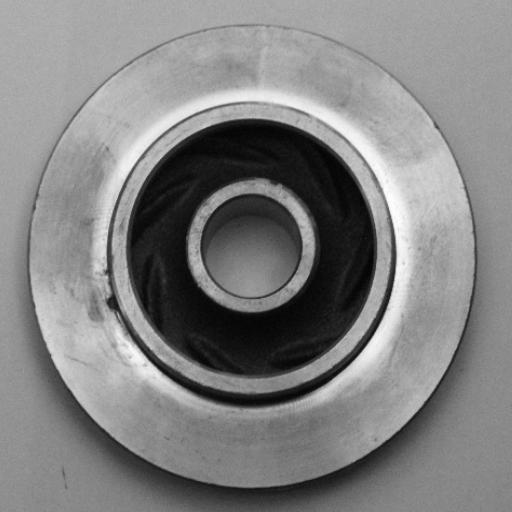crack: (98, 289, 128, 324)
unpolished_casting: (25, 23, 480, 493)
